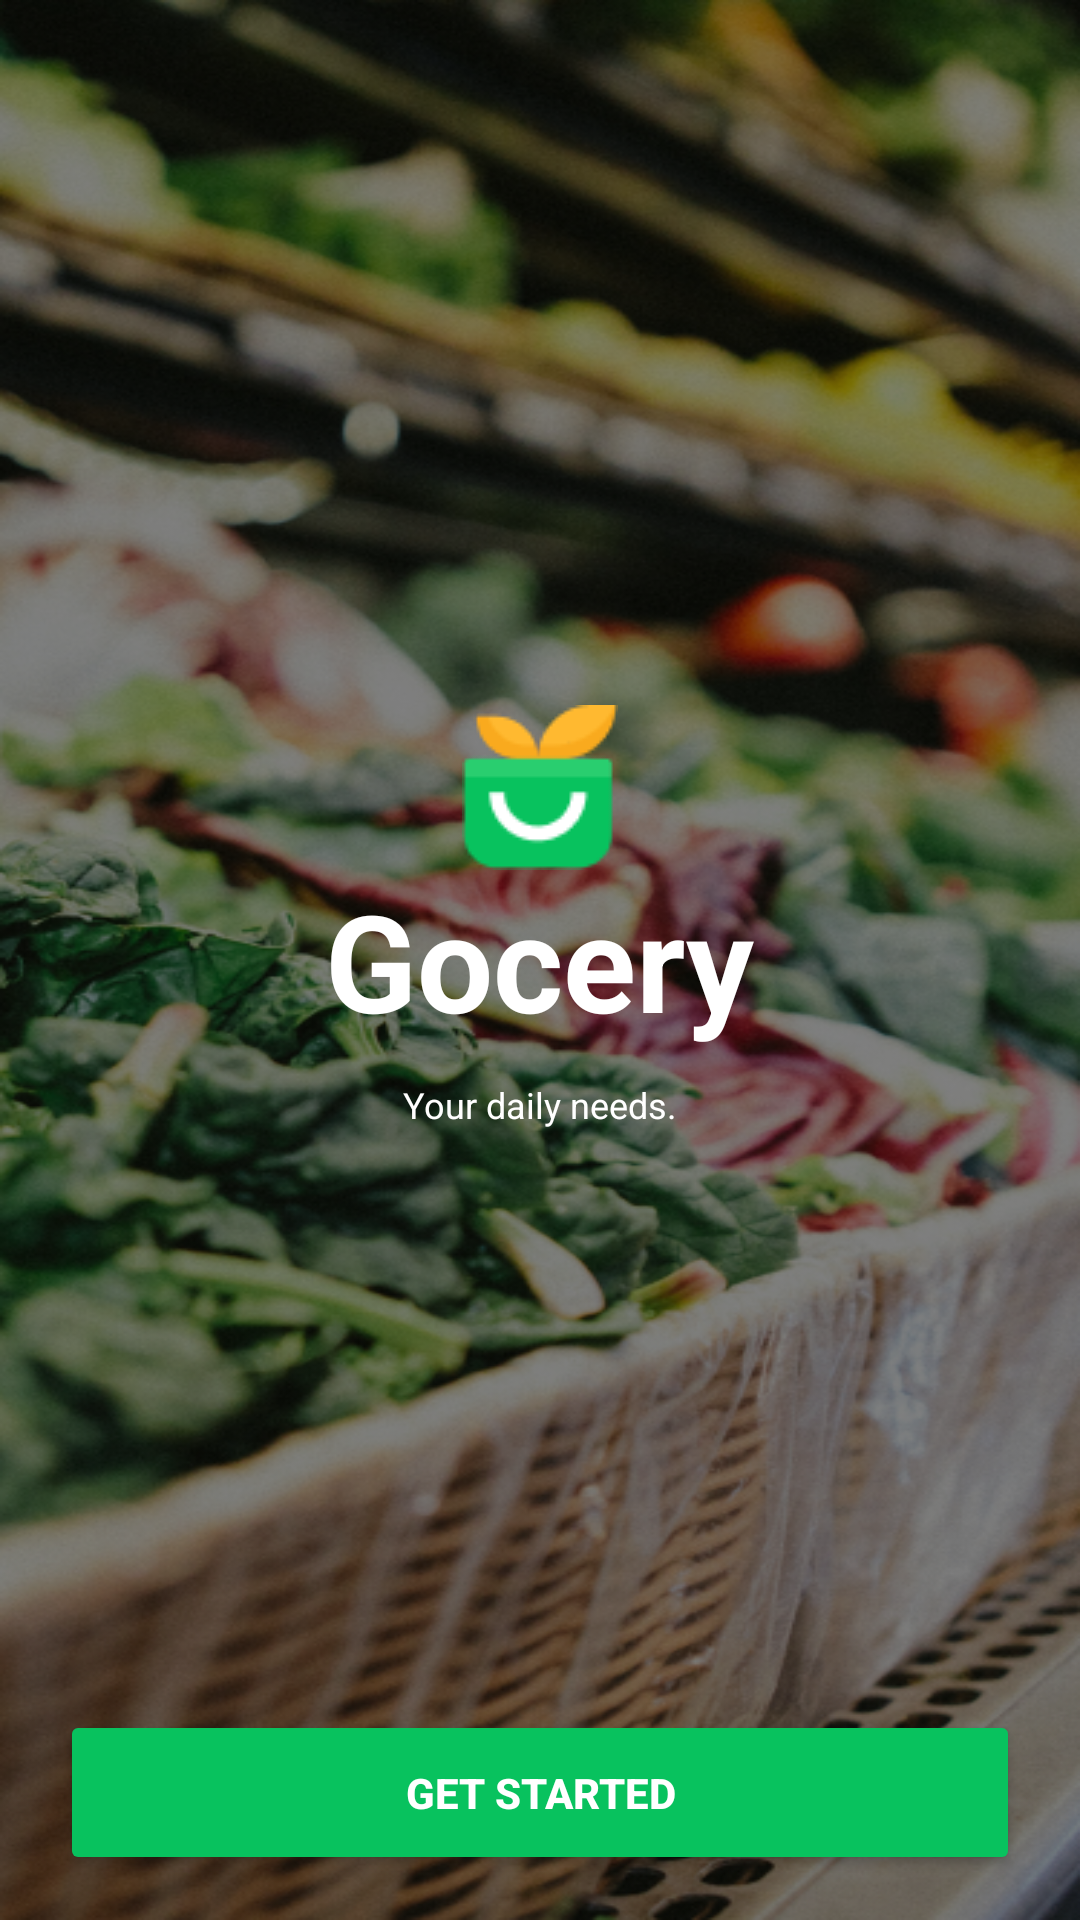

Point at icon controls on the screen. Image size 1080*1920, points as (x,y).
app: (540,787)
